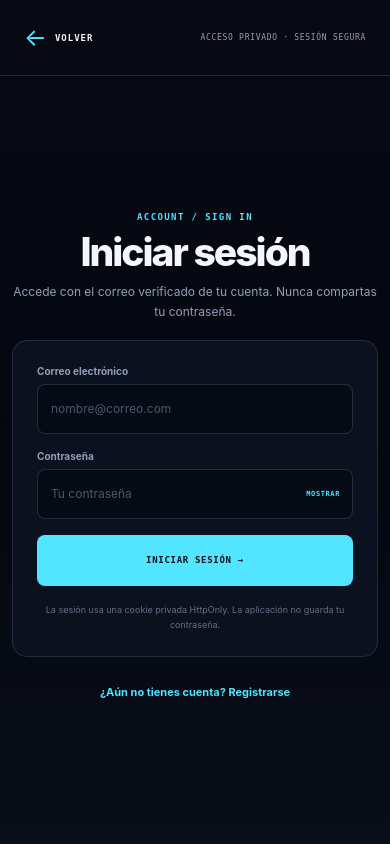
Test: LoginForm › valida y envía correo normalizado sin almacenar la contraseña
Step 1. Type " LAURA@EXAMPLE.COM " into the field named "Correo electrónico" → (195, 408), box [37,384,353,434]
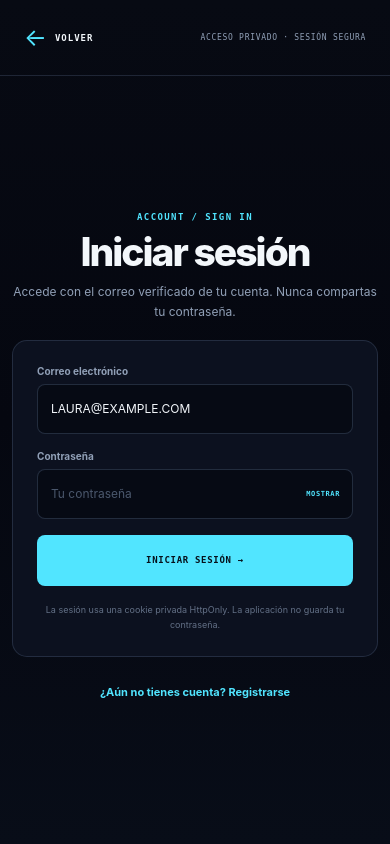
Step 2. Type "ClaveSegura#2026" into the password field labelled "contraseña" → (166, 494), box [38,486,294,501]
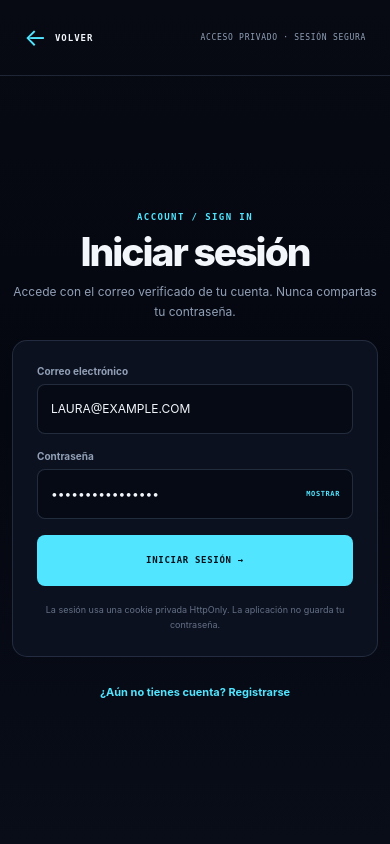
Step 3. Click the button "INICIAR SESIÓN →" → (195, 560), box [37,534,353,586]
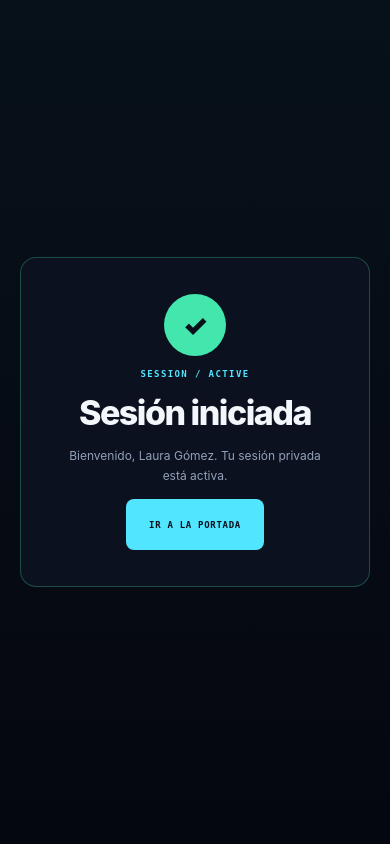
Expected: the heading "Sesión iniciada" is shown, [79,392,311,433]
